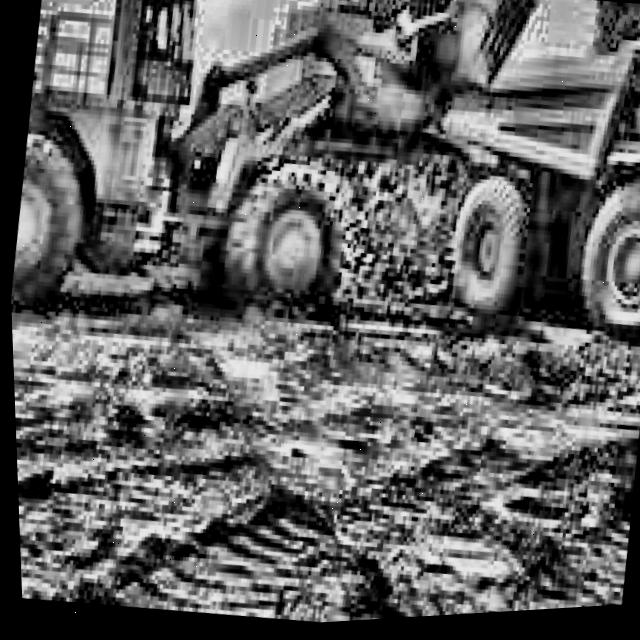buldozerpayloadergrader: (0, 0, 541, 449)
dump_truck: (414, 0, 640, 436)
